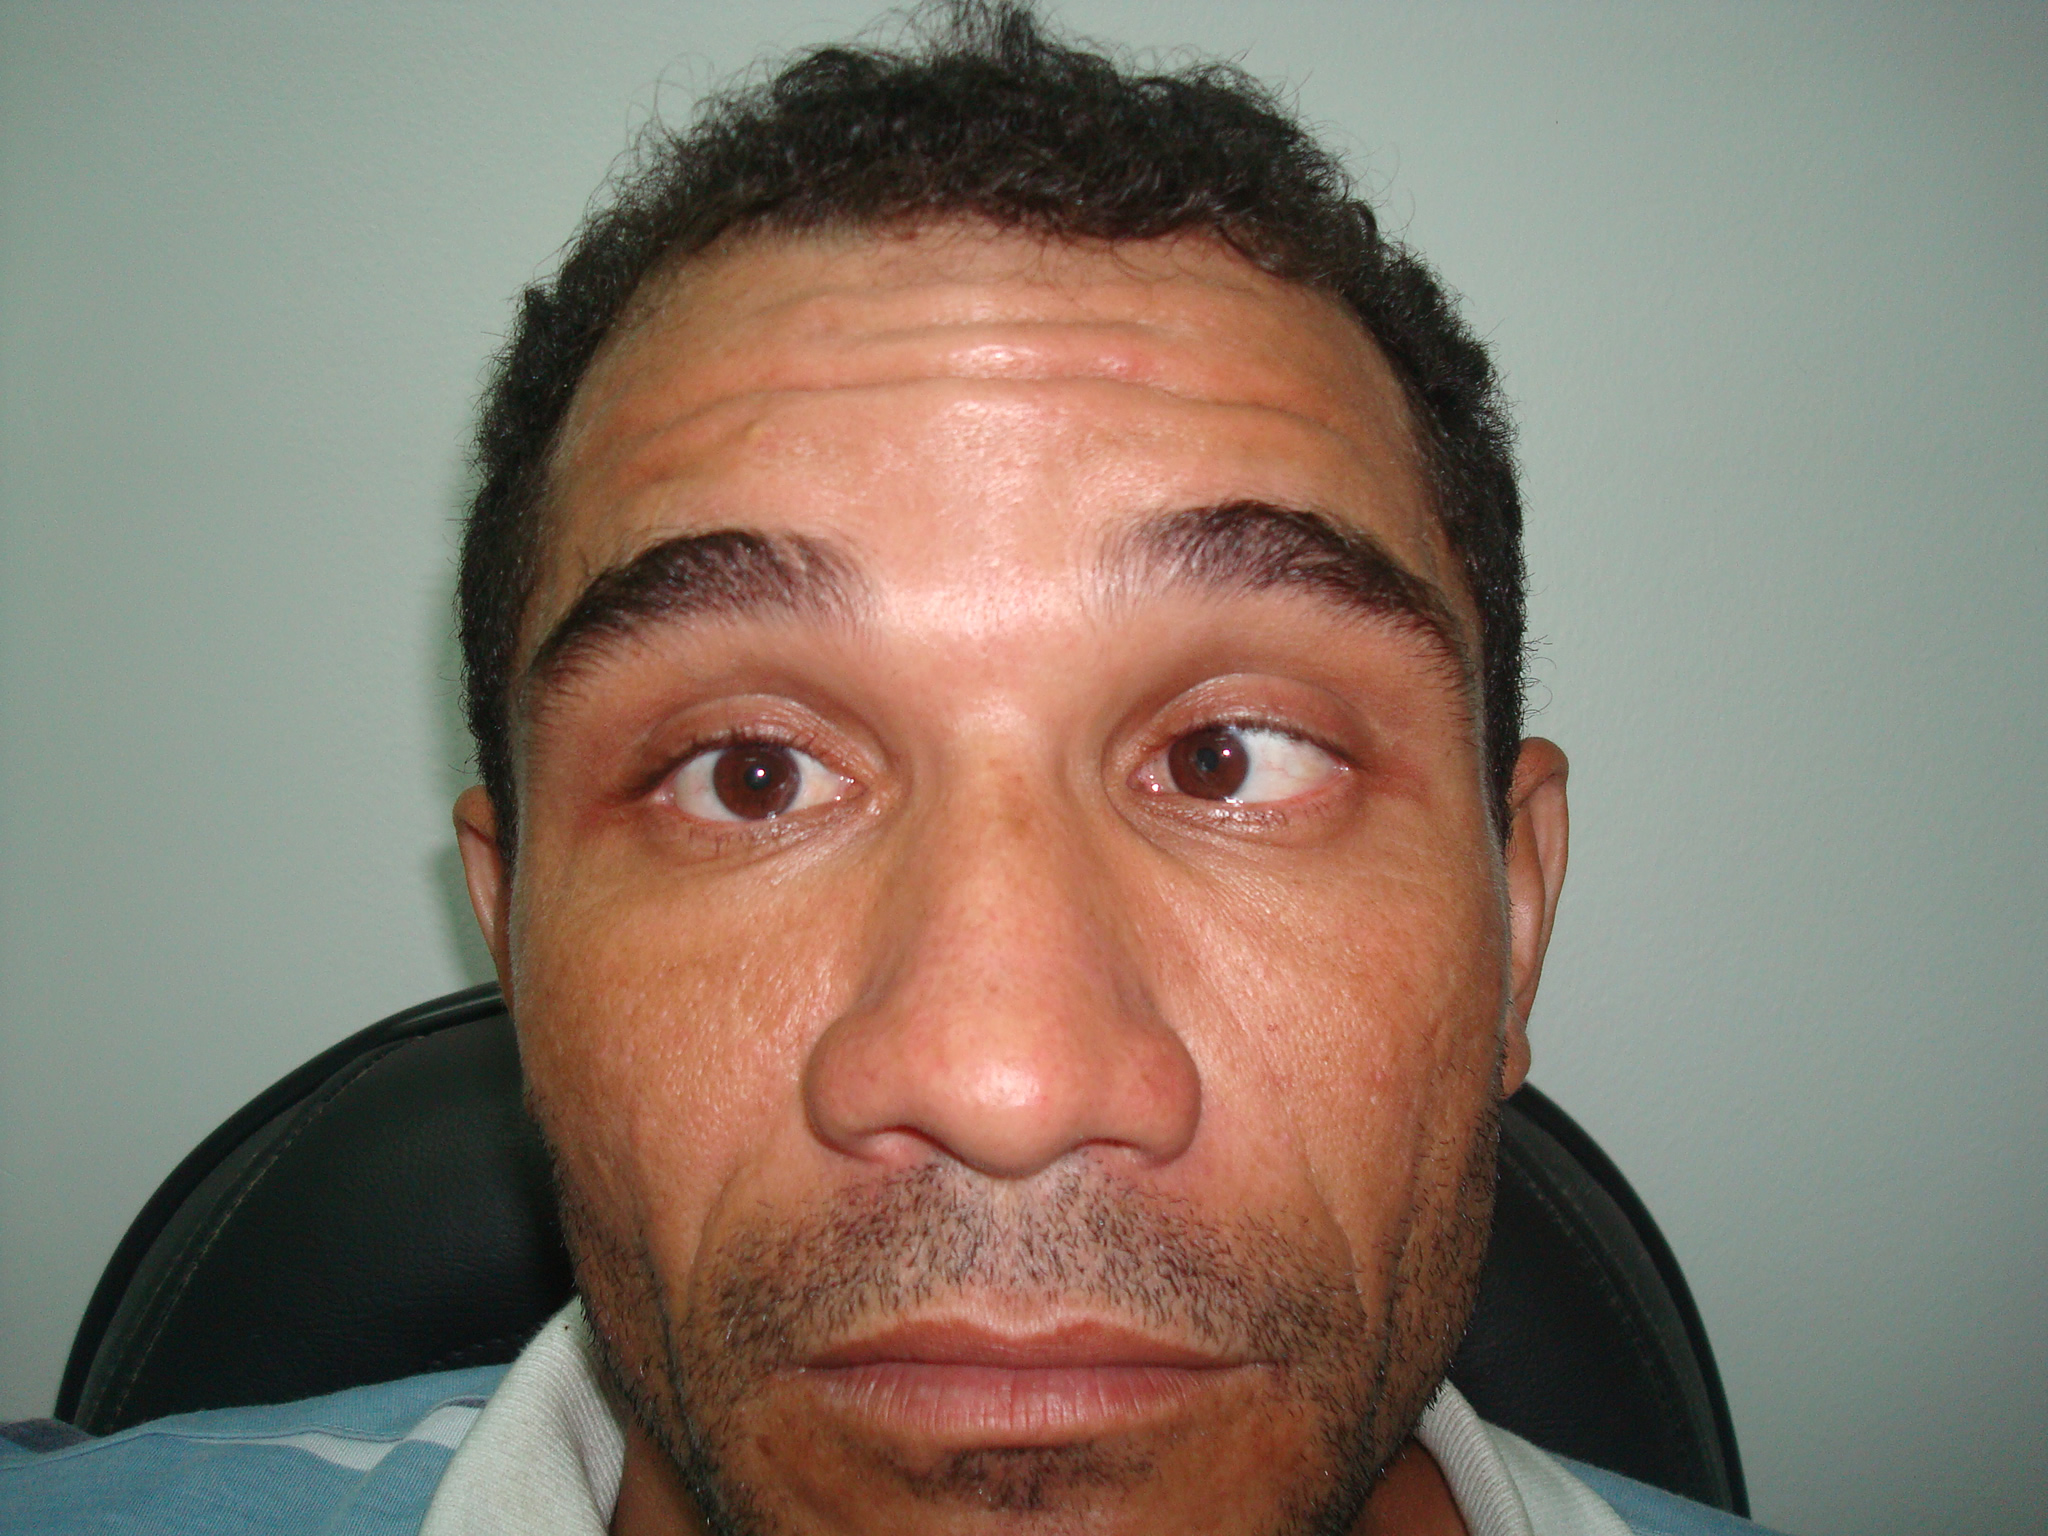flash: (1219, 744, 1234, 762), (753, 765, 769, 779)
limbo: (703, 734, 810, 820), (1163, 723, 1250, 795)
